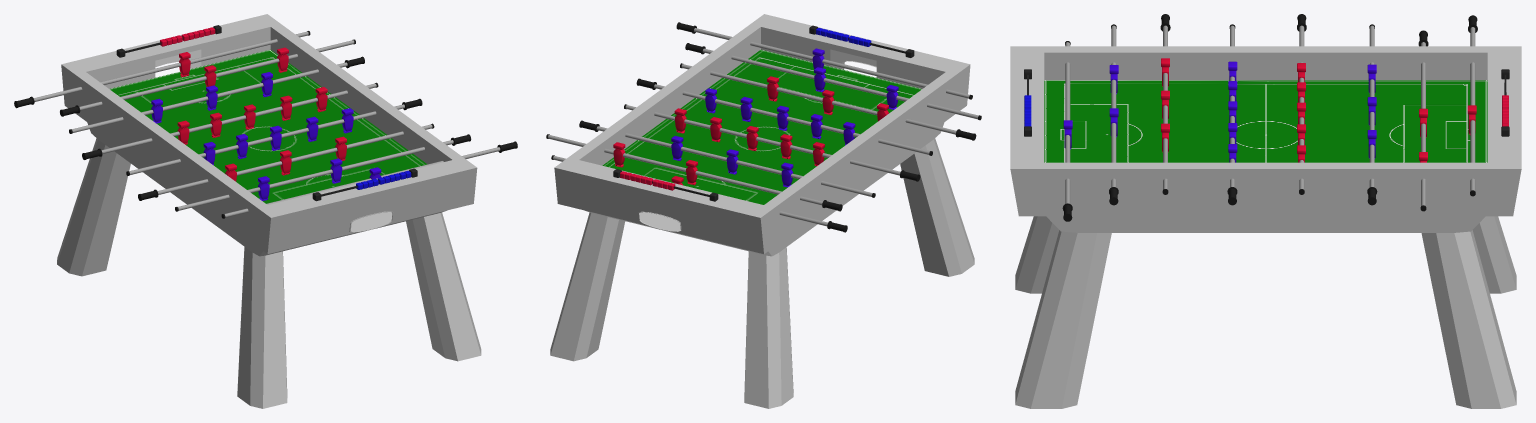
The model's file is football.fbx.
3 views of the same model, side by side, from view 1: azimuth 30°, elevation 25°; view 2: azimuth 150°, elevation 25°; view 3: azimuth 270°, elevation 25° (orthographic). The views are drawn at different scales.
Visible parts, largest first — view 1: Cube; view 2: Cube; view 3: Cube.
Boxes of the visible parts, bbox=[...] form: Cube: bbox=[14, 14, 517, 408]; Cube: bbox=[546, 14, 981, 408]; Cube: bbox=[1010, 14, 1521, 408].
Size of the model in its own units: 2288 by 1282 by 2475.
